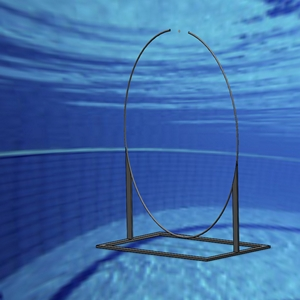circle: (94, 26, 271, 262)
